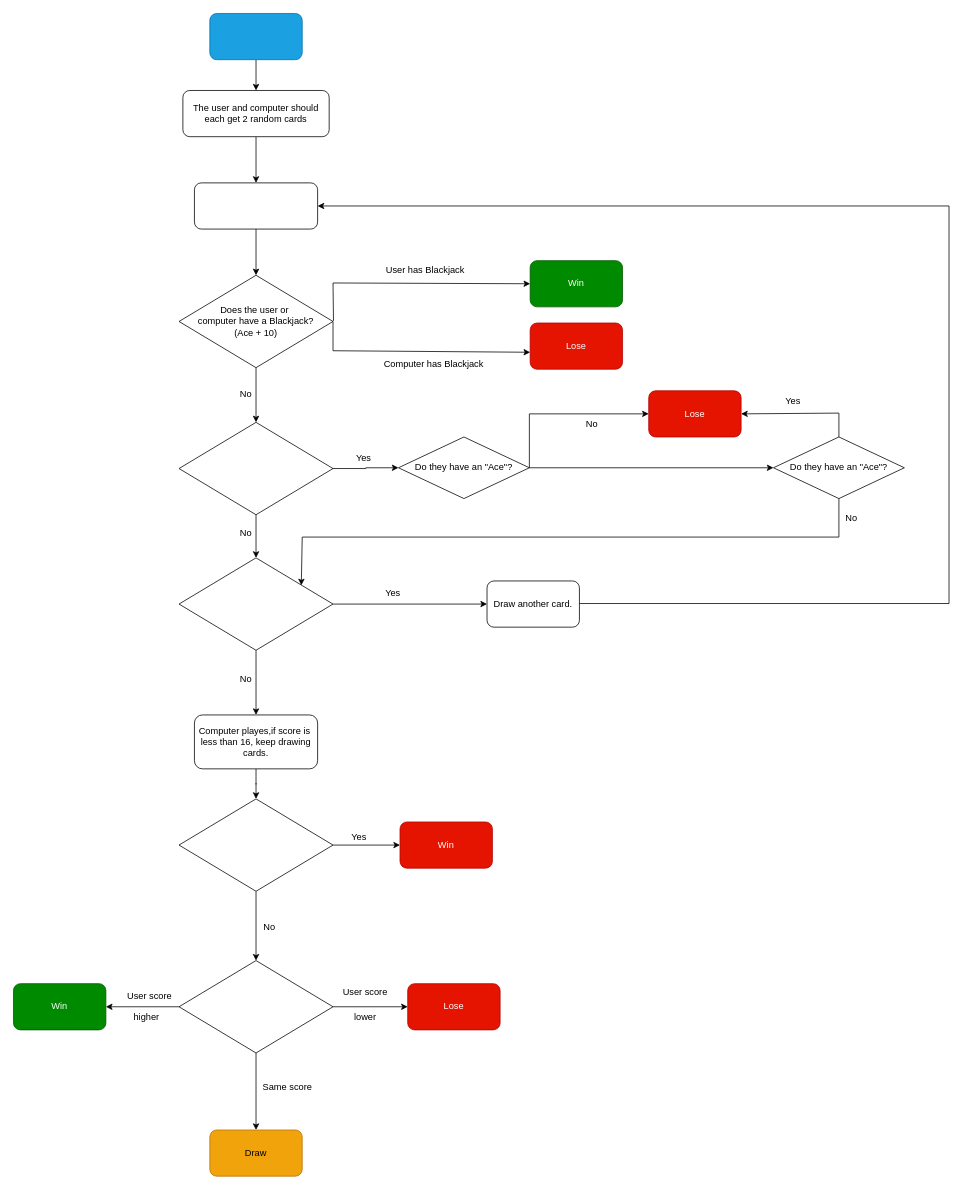
Some shapes in this 969 by 1190 pixel diagram are drawn without their labels. The centre of each missing label's shape, as x and y in pixels:
Add up the user's and the computer's scores: point 256,205
Ask the user if they want to get another card.: point 255,603
Compares user score with computer score to see if user score is higher?: point 255,1006
Has computer gone over 21?: point 255,844
Is user's score over 21?: point 255,468
START: point 255,36
